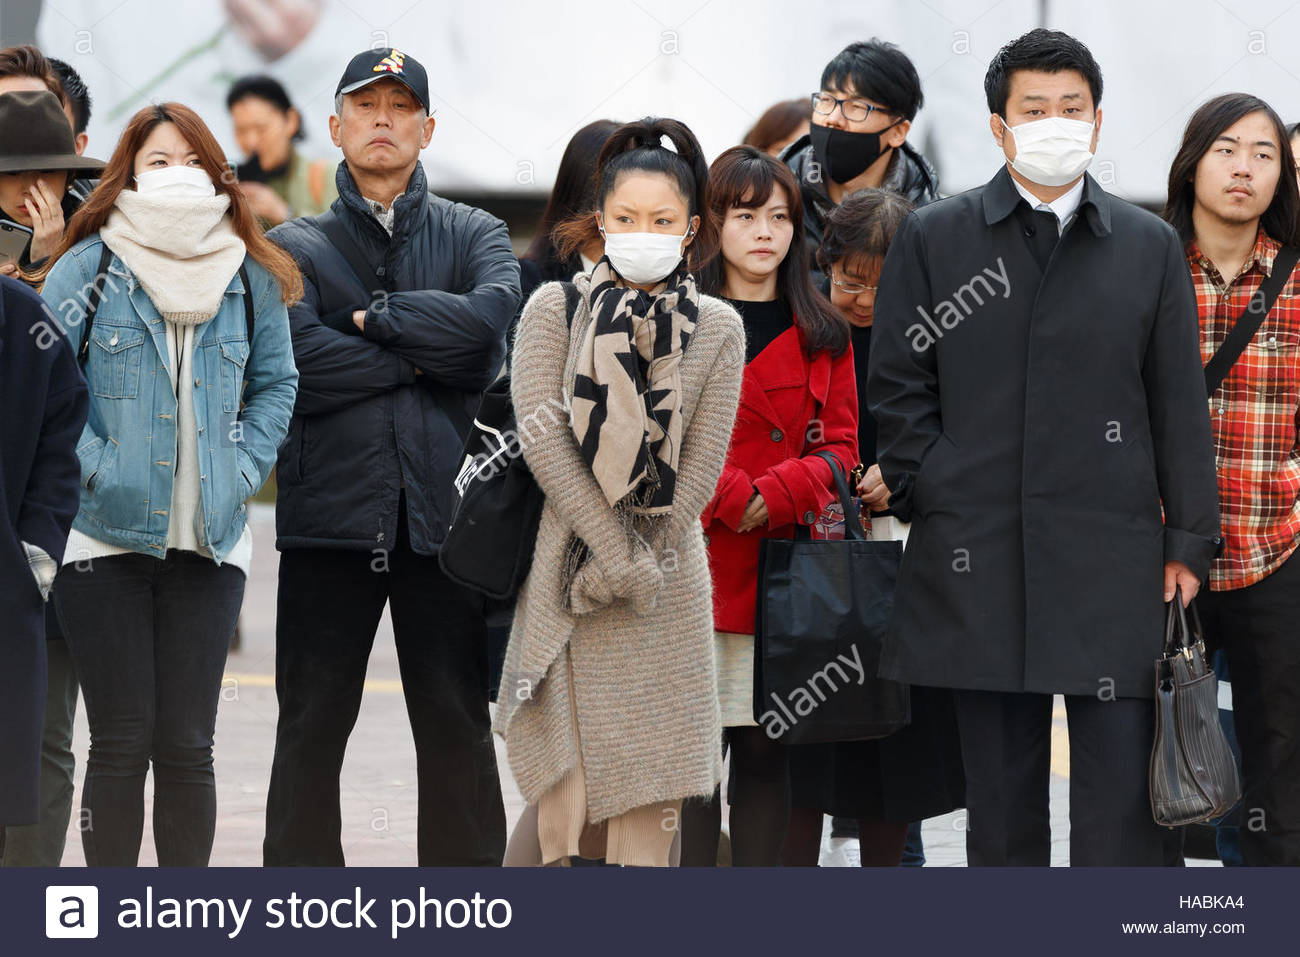mask: (1007, 119, 1095, 187), (603, 231, 685, 286), (136, 166, 216, 202)
